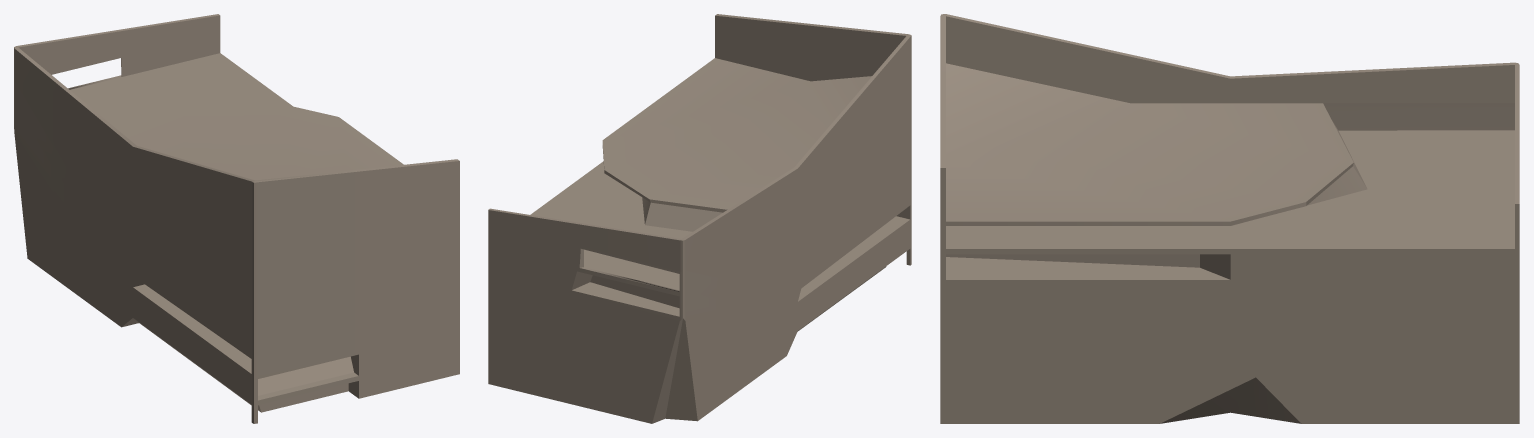
File: building2.fbx
3 views of the same model, side by side, from view 1: azimuth 30°, elevation 25°; view 2: azimuth 150°, elevation 25°; view 3: azimuth 270°, elevation 25° (orthographic). The views are drawn at different scales.
Parts seen in each view (by area): view 1: building1; view 2: building1; view 3: building1.
Boxes of the visible parts, x1,y1,x2,y2 form: building1: (14, 14, 459, 423); building1: (488, 14, 911, 423); building1: (940, 14, 1519, 423).
Size of the model in its own units: 3242 by 3629 by 6585.
